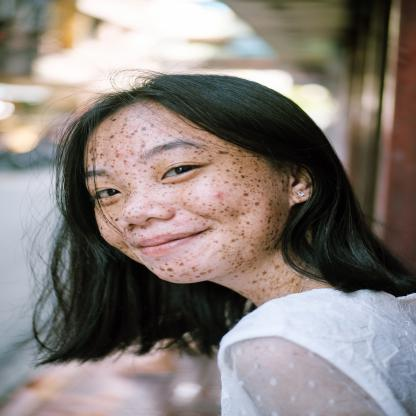Eye: (156, 158, 210, 184), (86, 184, 127, 206)
Mouth: (127, 228, 210, 262)
Nose: (120, 193, 177, 232)
